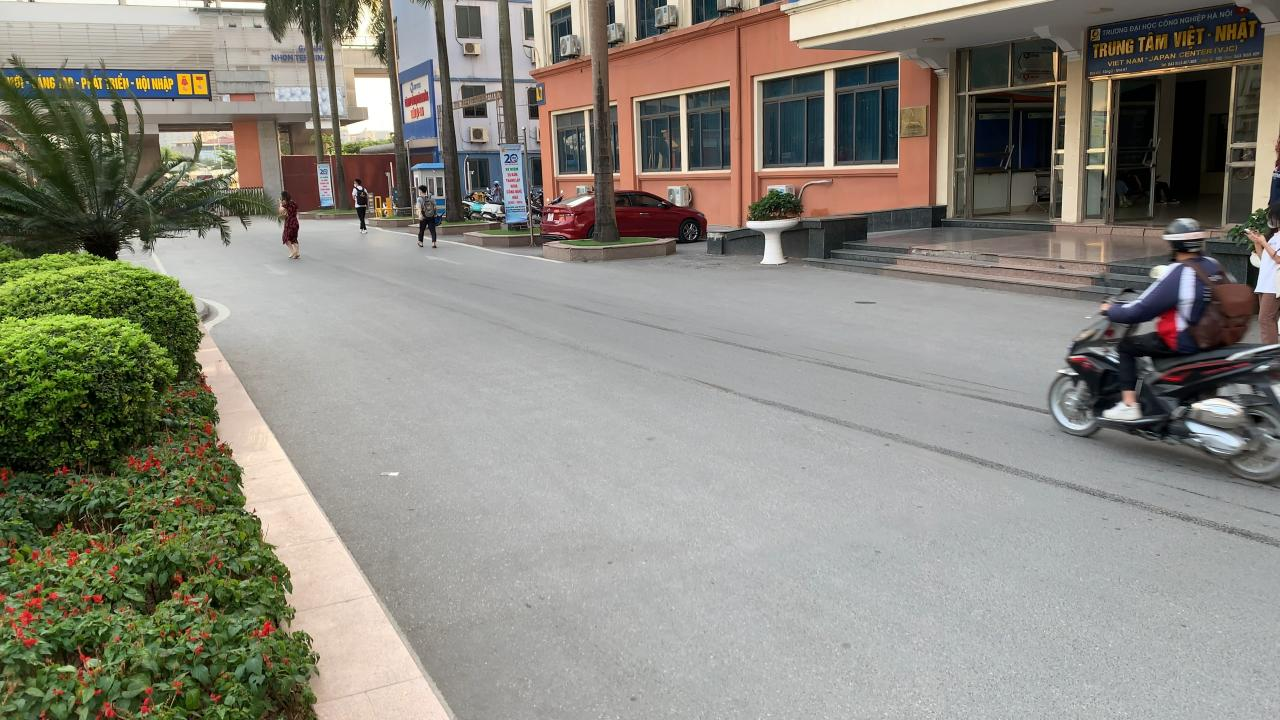helmet: (1164, 218, 1212, 249)
motorcyclist: (1044, 215, 1272, 492)
